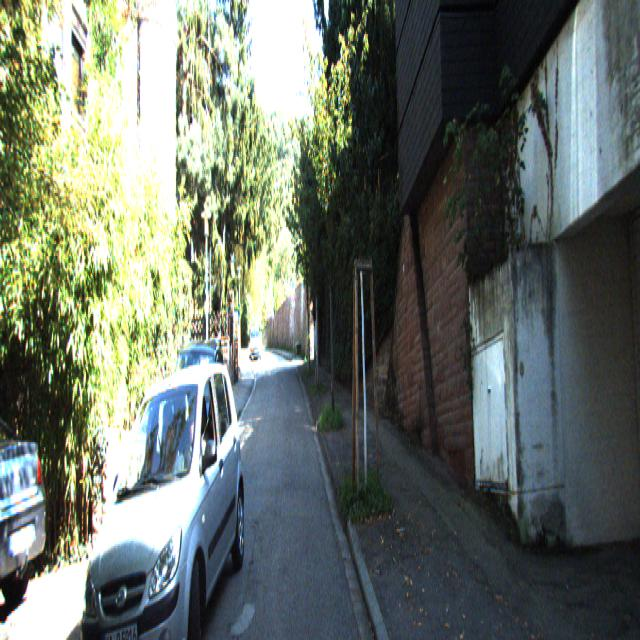Car: (69, 343, 246, 638), (156, 332, 228, 532), (0, 396, 56, 638), (250, 324, 263, 362)
